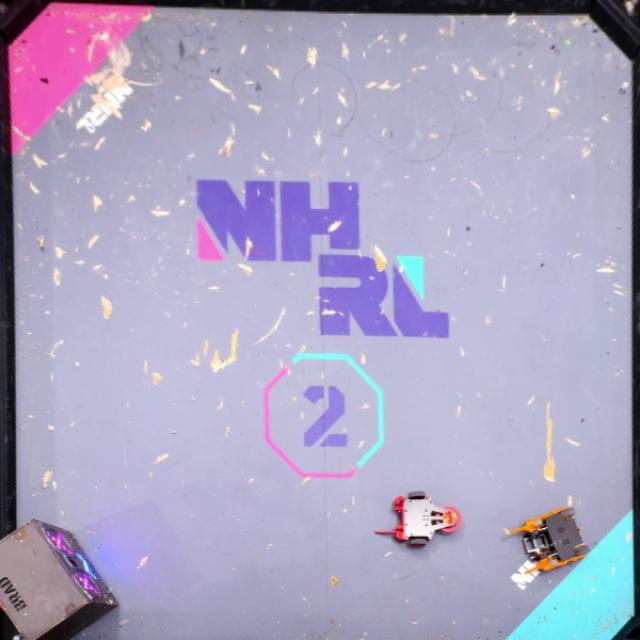housebot: (0, 516, 120, 640)
robot: (506, 505, 589, 574), (372, 489, 462, 548)
